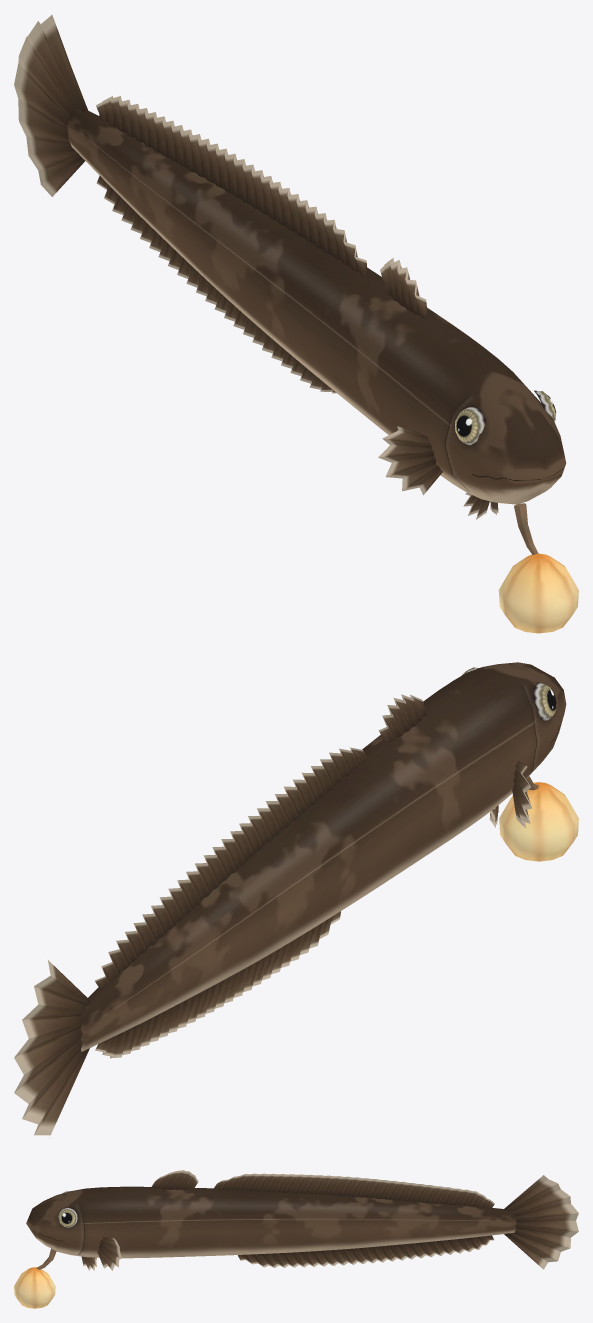
The model's file is lantern-ling.glb.
3 renders of one model, top to bottom at view 1: azimuth 30°, elevation 25°; view 2: azimuth 150°, elevation 25°; view 3: azimuth 270°, elevation 25°, orthographic. The views are drawn at different scales.
Visible parts, largest first — view 1: lantern-ling; view 2: lantern-ling; view 3: lantern-ling.
Boxes of the visible parts, x1,y1,x2,y2 form: lantern-ling: (14,15,578,633); lantern-ling: (14,662,578,1135); lantern-ling: (14,1170,578,1308).
Bounding box in the file's own units: 0.1635 × 0.2678 × 1.
1 material, 1 textured.
